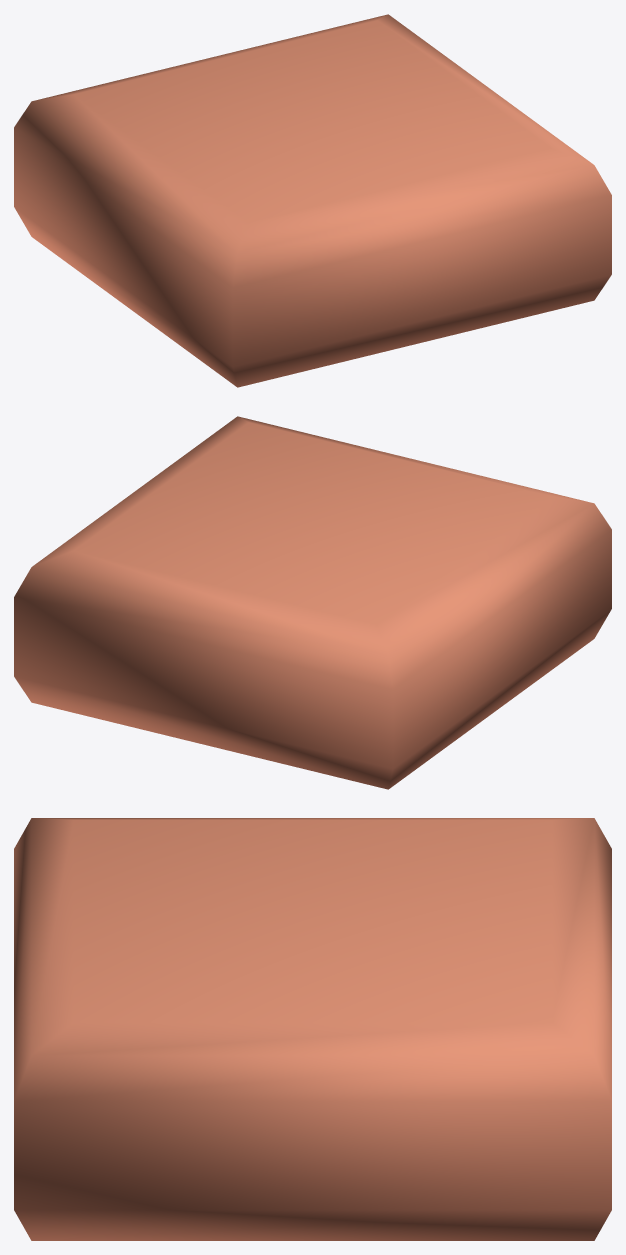
The model's file is conveyor-sides-cross.obj.
3 renders of one model, top to bottom at view 1: azimuth 30°, elevation 25°; view 2: azimuth 150°, elevation 25°; view 3: azimuth 270°, elevation 25°, orthographic. The views are drawn at different scales.
Parts seen in each view (by area): view 1: conveyor-sides-cross; view 2: conveyor-sides-cross; view 3: conveyor-sides-cross.
Part boxes in pixels (box(x1,y1,x2,y2)): conveyor-sides-cross: box(14, 14, 611, 387); conveyor-sides-cross: box(14, 416, 611, 789); conveyor-sides-cross: box(14, 818, 611, 1240).
Bounding box in the file's own units: 1 × 0.4 × 1.
